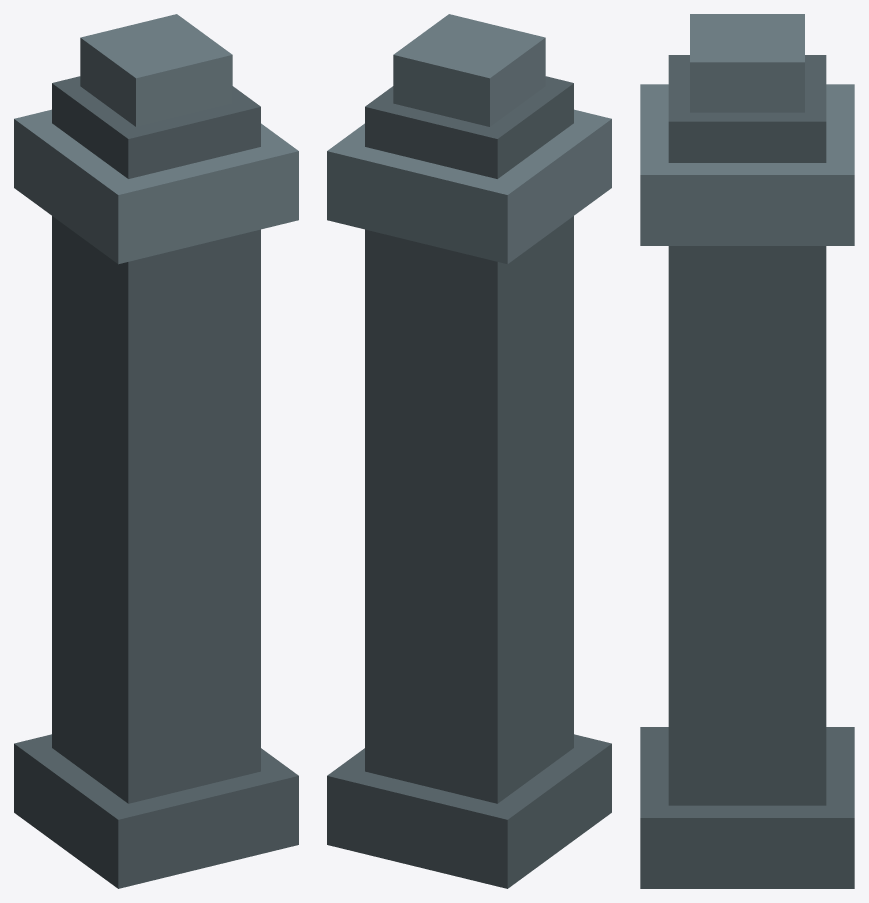
Rendered from Fence Pillar 01.FBX.
3 renders of one model, left to right at view 1: azimuth 30°, elevation 25°; view 2: azimuth 150°, elevation 25°; view 3: azimuth 270°, elevation 25°, orthographic. The views are drawn at different scales.
Visible parts, largest first — view 1: Fence Pillar 01; view 2: Fence Pillar 01; view 3: Fence Pillar 01.
Boxes of the visible parts, x1,y1,x2,y2 form: Fence Pillar 01: (14, 14, 298, 888); Fence Pillar 01: (327, 14, 611, 888); Fence Pillar 01: (640, 14, 854, 888).
Bounding box in the file's own units: 28.02 × 116 × 28.02.
